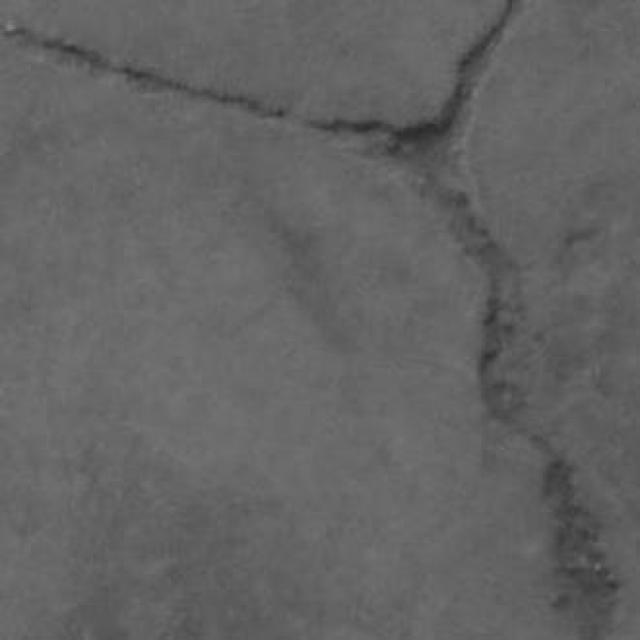crack: (2, 0, 523, 155), (2, 22, 287, 120), (544, 456, 620, 639)
